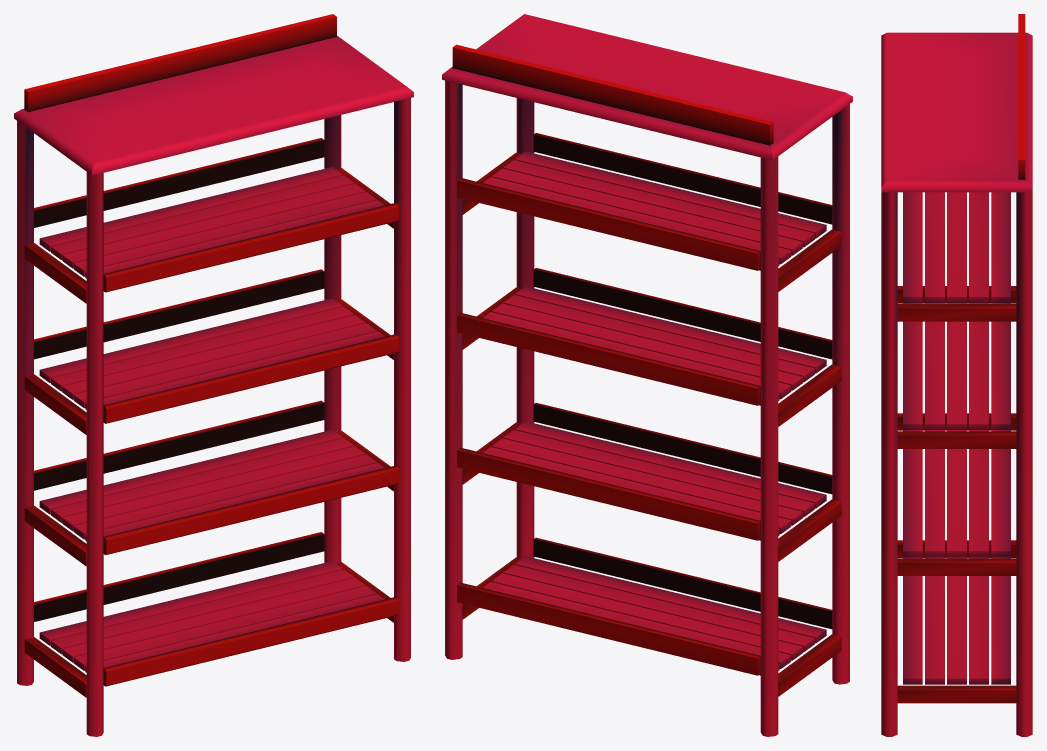
File: CI_Bakery_BreadRack.glb
3 views of the same model, side by side, from view 1: azimuth 30°, elevation 25°; view 2: azimuth 150°, elevation 25°; view 3: azimuth 270°, elevation 25° (orthographic). The views are drawn at different scales.
Parts seen in each view (by area): view 1: CI_Bakery_BreadRack; view 2: CI_Bakery_BreadRack; view 3: CI_Bakery_BreadRack.
Part boxes in pixels (left/top/right/bottom): CI_Bakery_BreadRack: left=14, top=14, right=413, bottom=736; CI_Bakery_BreadRack: left=442, top=14, right=852, bottom=736; CI_Bakery_BreadRack: left=881, top=14, right=1032, bottom=736.
Bounding box in the file's own units: 1 × 1.76 × 0.42.
